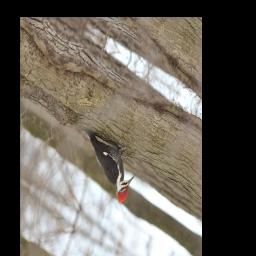Woodpecker: (67, 112, 142, 209)
